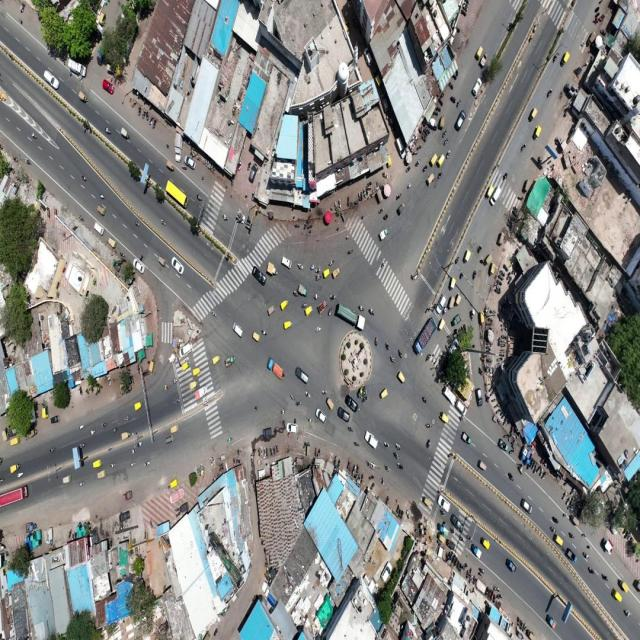3W: (95, 201, 107, 220), (532, 123, 542, 142), (440, 410, 451, 427), (616, 603, 626, 621), (566, 624, 577, 640), (396, 368, 406, 385), (488, 260, 498, 276), (481, 535, 491, 551), (388, 351, 397, 368), (427, 171, 435, 190), (437, 115, 447, 130), (62, 472, 72, 486), (78, 90, 88, 104), (475, 43, 484, 58), (91, 458, 103, 469), (357, 386, 367, 399), (562, 49, 570, 65), (555, 534, 564, 548), (169, 477, 179, 489), (28, 426, 40, 436), (397, 203, 407, 215), (380, 387, 390, 399), (97, 468, 107, 480), (120, 430, 130, 442), (305, 302, 312, 319), (429, 154, 438, 167), (326, 399, 335, 412), (382, 210, 391, 223), (486, 184, 494, 198), (9, 462, 19, 473), (163, 434, 174, 444), (530, 106, 537, 121), (499, 230, 507, 243), (192, 364, 200, 377), (485, 251, 493, 264), (423, 496, 432, 507), (42, 406, 49, 420), (189, 379, 197, 391), (478, 460, 486, 472), (448, 297, 456, 309), (252, 331, 260, 343), (332, 267, 340, 279), (438, 153, 444, 169), (149, 361, 156, 374), (281, 298, 288, 311), (213, 353, 220, 366), (10, 437, 20, 446), (421, 160, 427, 175), (282, 320, 292, 329), (447, 539, 455, 550), (464, 250, 471, 262), (439, 534, 446, 546), (159, 254, 166, 266), (450, 276, 457, 288), (268, 304, 275, 316), (323, 266, 329, 280), (133, 402, 143, 410), (182, 359, 190, 369), (439, 319, 445, 332), (456, 292, 461, 305), (170, 425, 179, 432), (480, 311, 486, 321)
Bus: (163, 178, 188, 207), (0, 484, 29, 504)
Cars: (434, 292, 449, 317), (252, 264, 267, 286), (315, 406, 329, 426), (456, 108, 468, 131), (436, 492, 451, 510), (44, 70, 59, 88), (456, 397, 469, 417), (345, 391, 358, 411), (172, 256, 185, 276), (295, 367, 311, 383), (178, 340, 194, 356), (364, 432, 379, 449), (232, 321, 246, 339), (470, 78, 483, 96), (102, 77, 114, 96), (336, 406, 350, 422), (445, 384, 455, 405), (491, 187, 502, 206), (451, 514, 464, 530), (218, 208, 230, 224), (132, 261, 146, 274), (521, 499, 533, 514), (475, 388, 483, 408), (93, 222, 105, 235), (286, 420, 298, 433), (185, 155, 195, 169), (471, 546, 482, 558), (50, 414, 61, 425), (282, 256, 292, 268), (512, 582, 520, 592), (528, 588, 534, 600)
LCV: (266, 359, 286, 382), (266, 262, 279, 280), (174, 134, 182, 162), (460, 429, 473, 446), (195, 385, 208, 400), (567, 547, 578, 564), (508, 558, 518, 576), (450, 313, 461, 329), (440, 522, 450, 539), (296, 282, 306, 298), (547, 616, 558, 630), (317, 299, 327, 314), (122, 488, 134, 500), (379, 228, 388, 242), (225, 356, 236, 367), (480, 51, 488, 66), (500, 436, 509, 449), (468, 307, 476, 320), (262, 426, 272, 436), (26, 522, 38, 530), (121, 129, 130, 138), (167, 160, 174, 171)
M2W: (314, 322, 326, 336), (518, 142, 528, 155), (28, 129, 38, 141), (617, 588, 626, 601), (279, 404, 287, 416), (587, 540, 595, 552), (384, 463, 391, 476), (81, 172, 88, 185), (106, 239, 116, 248), (396, 462, 405, 472), (392, 450, 401, 460), (78, 440, 85, 452), (568, 529, 575, 541), (297, 260, 304, 272), (439, 508, 446, 520), (472, 267, 479, 279), (609, 583, 616, 595), (105, 126, 112, 138), (98, 190, 105, 202), (48, 445, 57, 454), (552, 514, 560, 524), (134, 218, 142, 228), (455, 100, 463, 110), (605, 602, 613, 612), (315, 273, 323, 283), (353, 439, 361, 449), (503, 169, 509, 182), (550, 522, 556, 535), (426, 419, 432, 432), (345, 231, 352, 242), (517, 463, 524, 474), (445, 150, 452, 161), (77, 212, 84, 223), (554, 52, 560, 64), (476, 243, 482, 255), (478, 566, 486, 575), (197, 191, 203, 203), (79, 478, 85, 490), (130, 460, 136, 472), (144, 458, 150, 470), (394, 440, 401, 450), (457, 533, 464, 543), (136, 439, 143, 449), (173, 397, 180, 407), (383, 440, 389, 451), (313, 290, 319, 301), (373, 336, 379, 347), (348, 246, 354, 257), (454, 255, 460, 266), (381, 258, 386, 271), (441, 131, 449, 139), (421, 395, 428, 404), (358, 304, 365, 313), (425, 352, 432, 361), (309, 262, 316, 271), (76, 424, 85, 431), (321, 389, 328, 398), (328, 295, 337, 302), (367, 307, 374, 316), (289, 393, 295, 403), (302, 300, 308, 310), (508, 472, 514, 482), (329, 257, 335, 267), (378, 205, 384, 215), (396, 190, 402, 200), (293, 288, 299, 298), (385, 342, 391, 352), (416, 154, 421, 166), (547, 89, 553, 99), (348, 425, 354, 435), (407, 182, 413, 192), (444, 137, 450, 147), (426, 438, 431, 450), (160, 218, 167, 226), (457, 273, 465, 280), (210, 311, 218, 318), (304, 391, 312, 398), (109, 463, 116, 471), (399, 349, 404, 360), (99, 422, 108, 428), (316, 264, 322, 273), (20, 4, 26, 13), (460, 552, 469, 558), (90, 428, 96, 437), (328, 308, 333, 318), (466, 532, 471, 542), (172, 378, 178, 386), (437, 171, 442, 180), (124, 415, 130, 422), (260, 329, 266, 336), (181, 164, 187, 171), (113, 424, 117, 434), (131, 448, 136, 454), (165, 385, 169, 392)
Truck: (412, 313, 437, 354), (338, 296, 365, 330)
